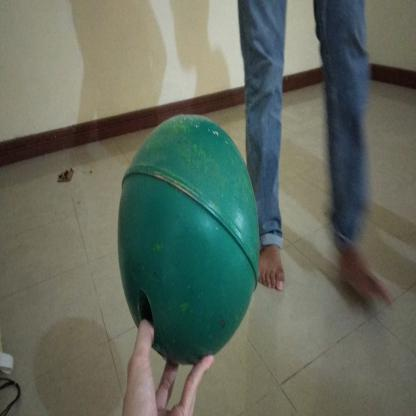green_buoy: (112, 115, 260, 374)
